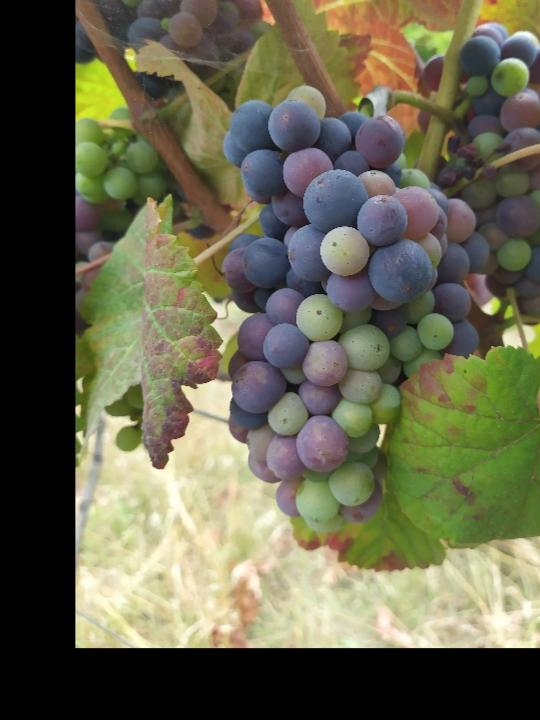grape: (219, 80, 492, 536)
